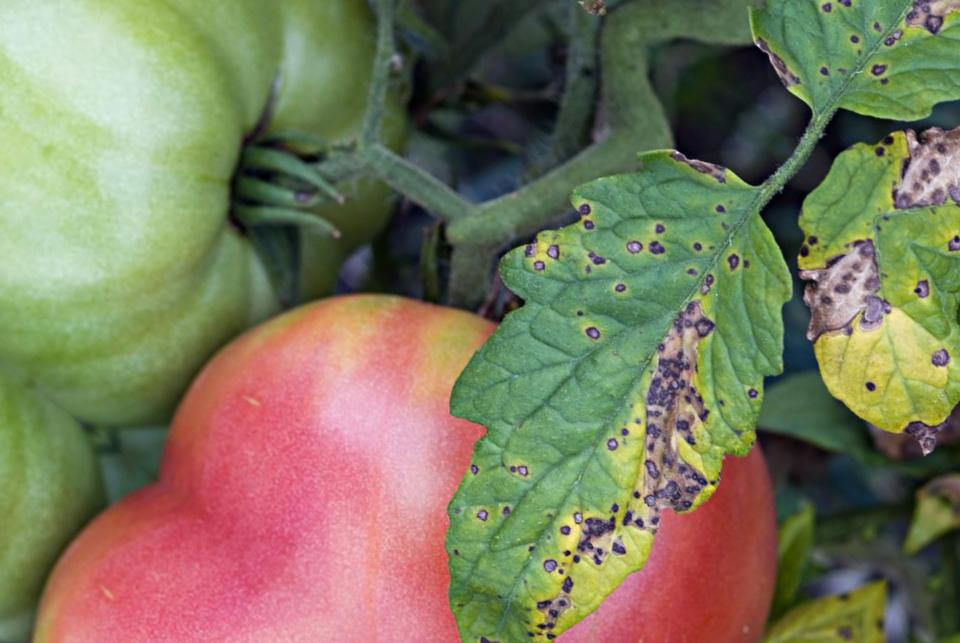Tomato Septoria leaf spot: (316, 102, 891, 643), (721, 181, 960, 469)
